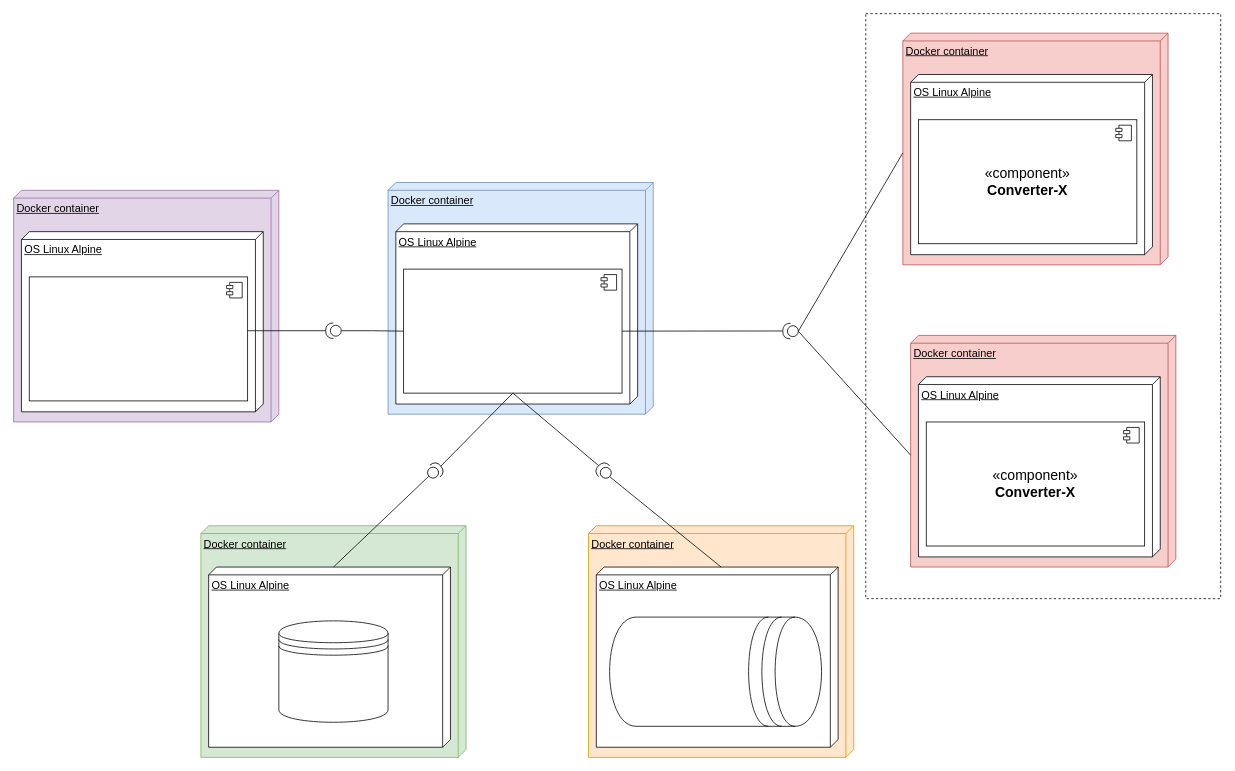
Image size: 1235x771. Some labels were removed from this diagram. The box of each missing label's shape, as (x1, y1, x2, y2) in pixels:
MongoDB: (278, 620, 388, 722)
RabbitMQ: (609, 616, 822, 726)
«component» Core: (403, 268, 622, 393)
«component» Frontend: (28, 276, 248, 401)
